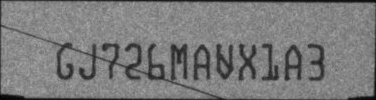1: (261, 41, 280, 80)
2: (124, 42, 141, 80)
3: (307, 41, 326, 81)
6: (146, 42, 166, 80)
7: (102, 41, 120, 79)
A: (192, 43, 212, 80), (284, 44, 303, 81)
G: (56, 42, 76, 80)
J: (79, 41, 97, 79)
M: (170, 42, 189, 81)
V: (216, 42, 235, 80)
X: (238, 42, 257, 80)
